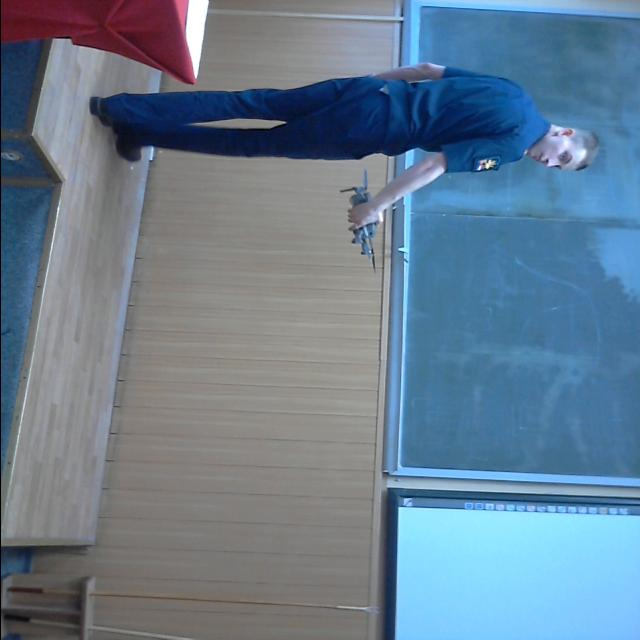drone: (339, 168, 397, 280)
